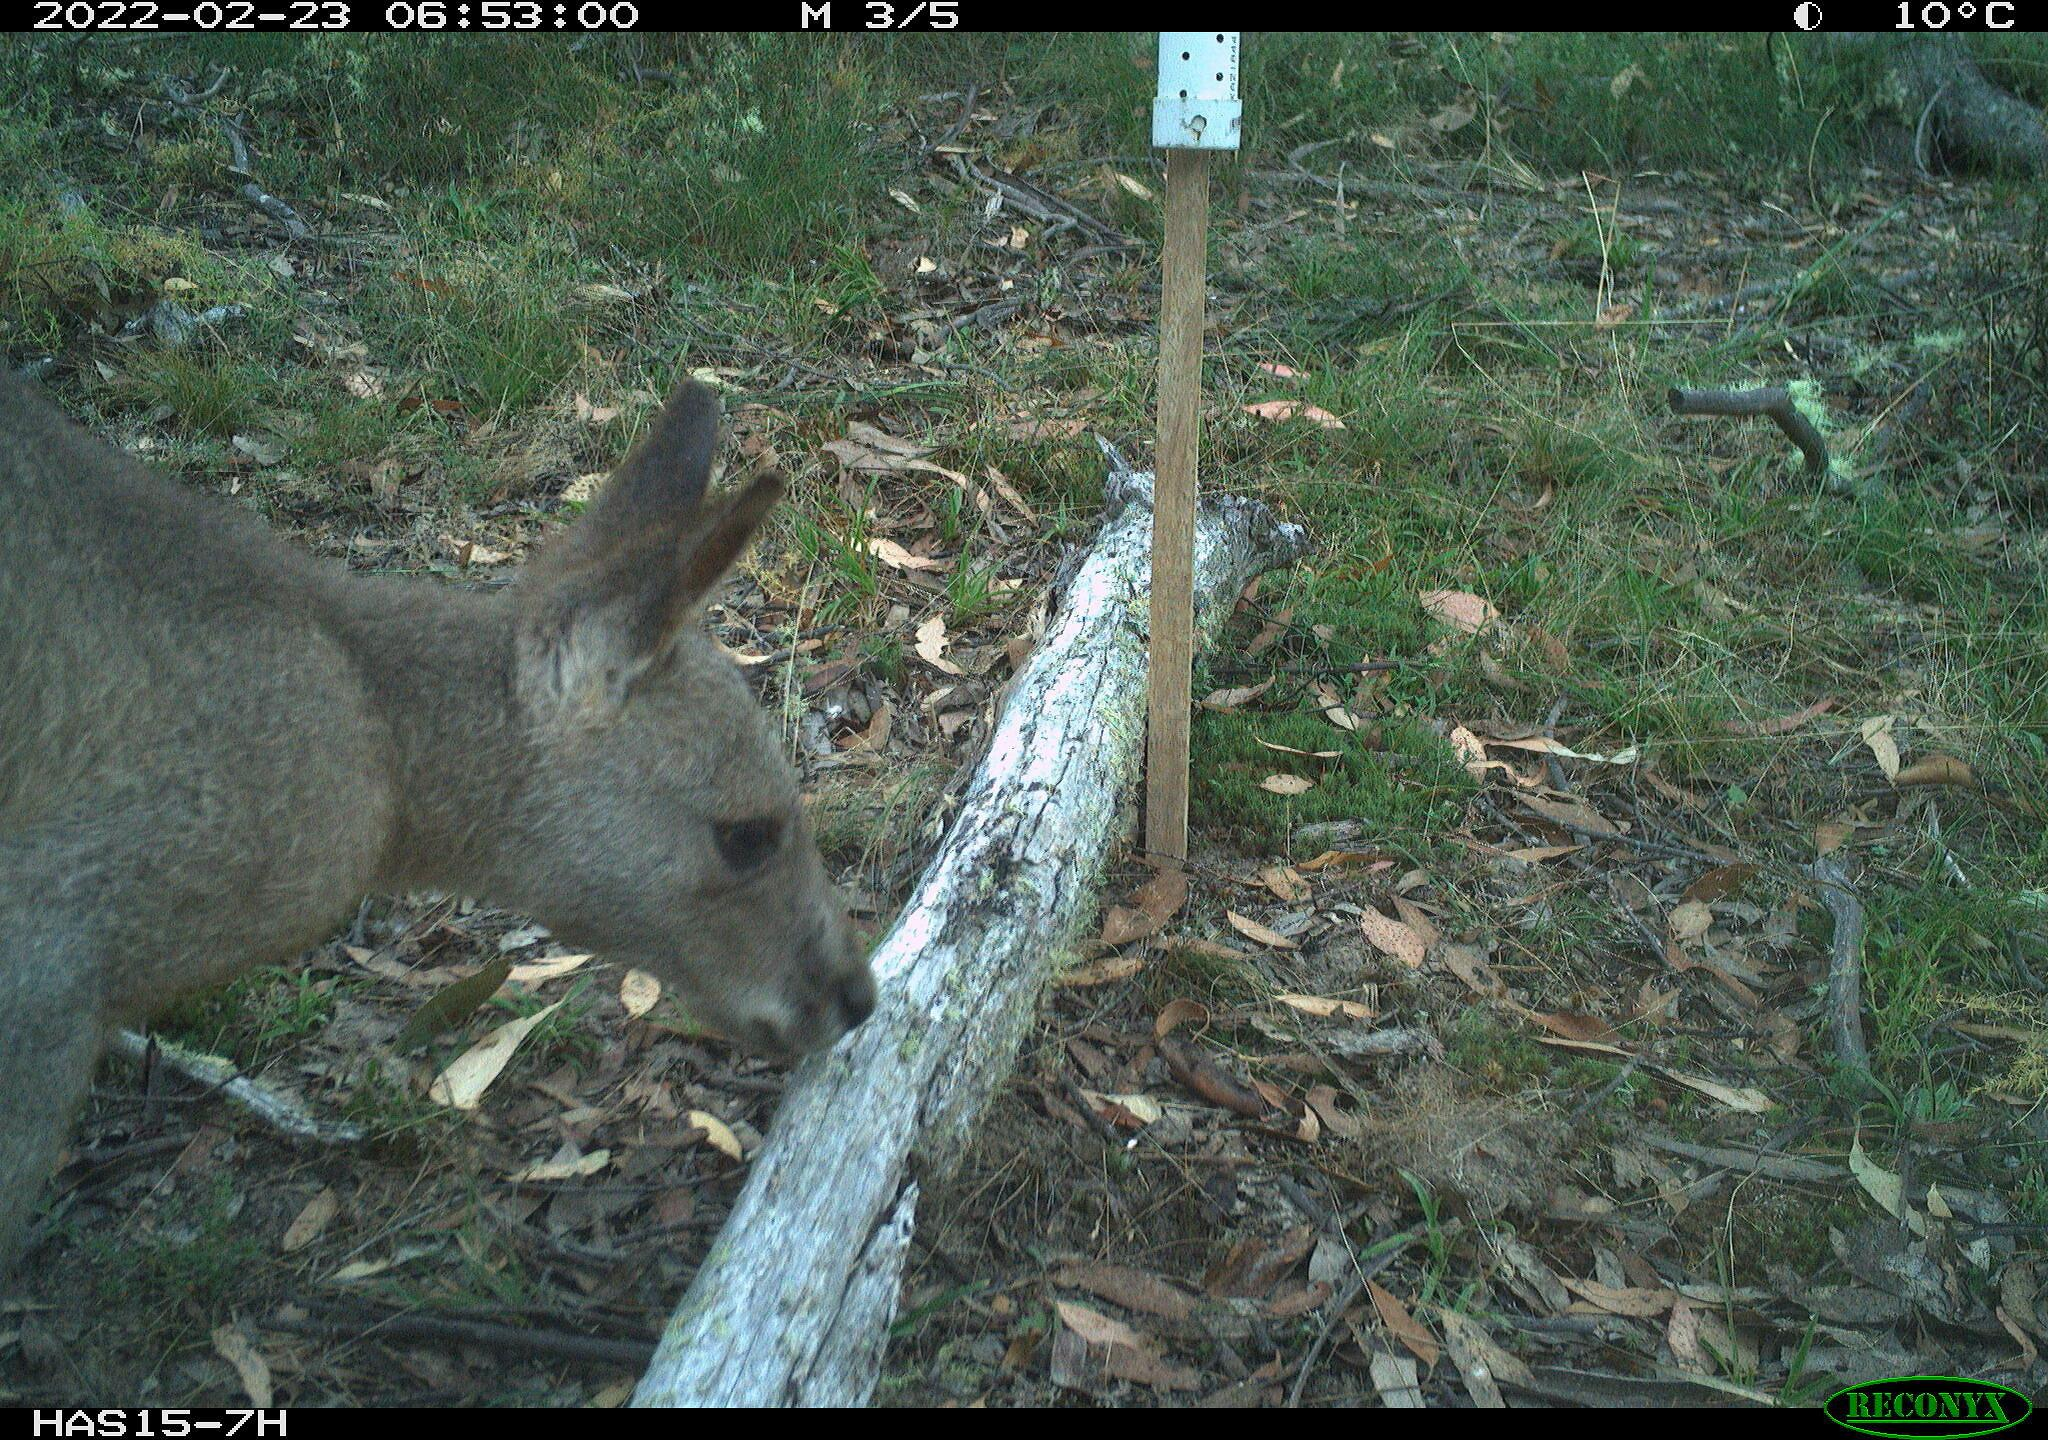Eastern grey kangaroo: (0, 368, 876, 1297)
